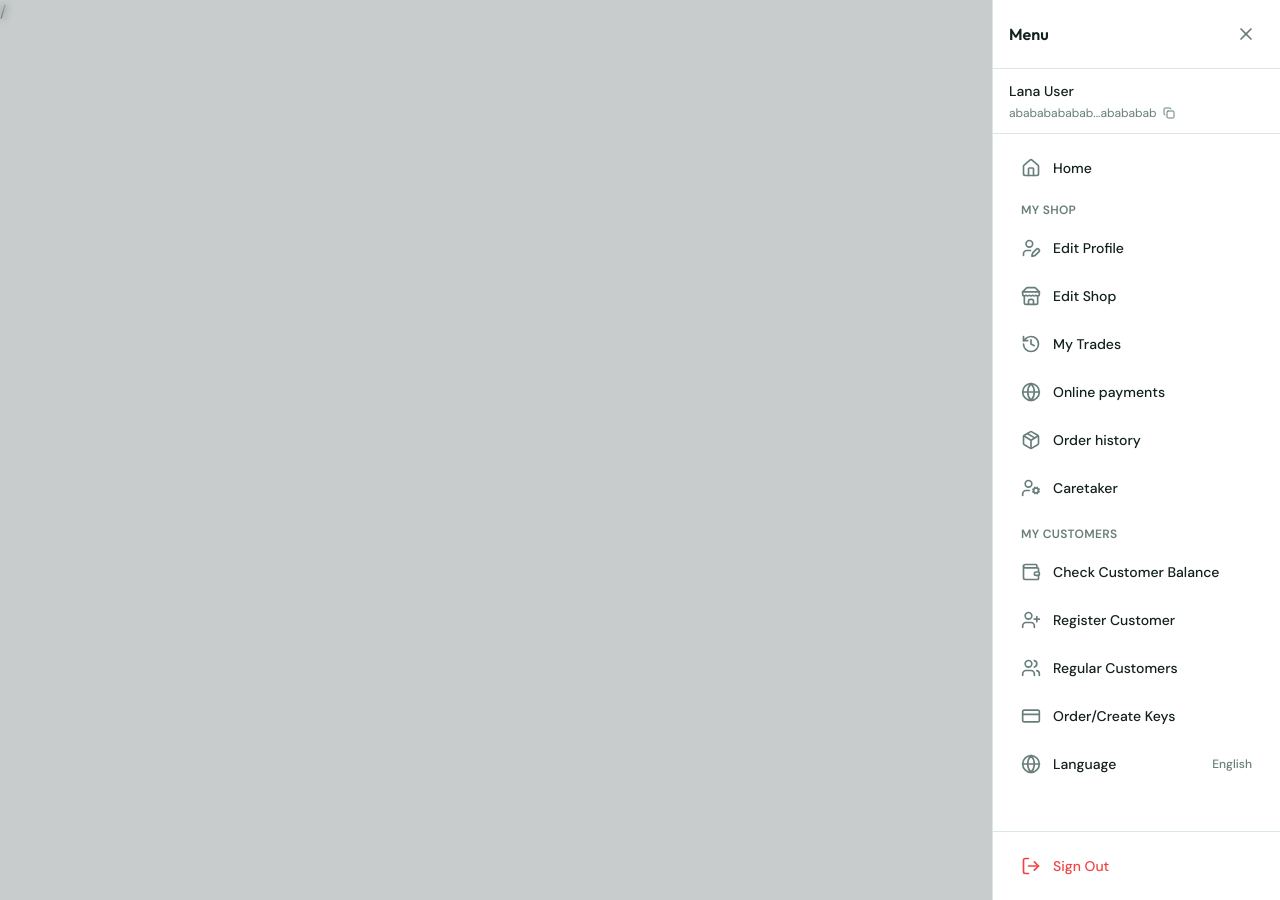
menu → Online payments › opens /lana-online/payments and closes the drawer
The image size is (1280, 900).
Click the button "Online payments". click: (1136,392)
box: 1005,370 -> 1268,414
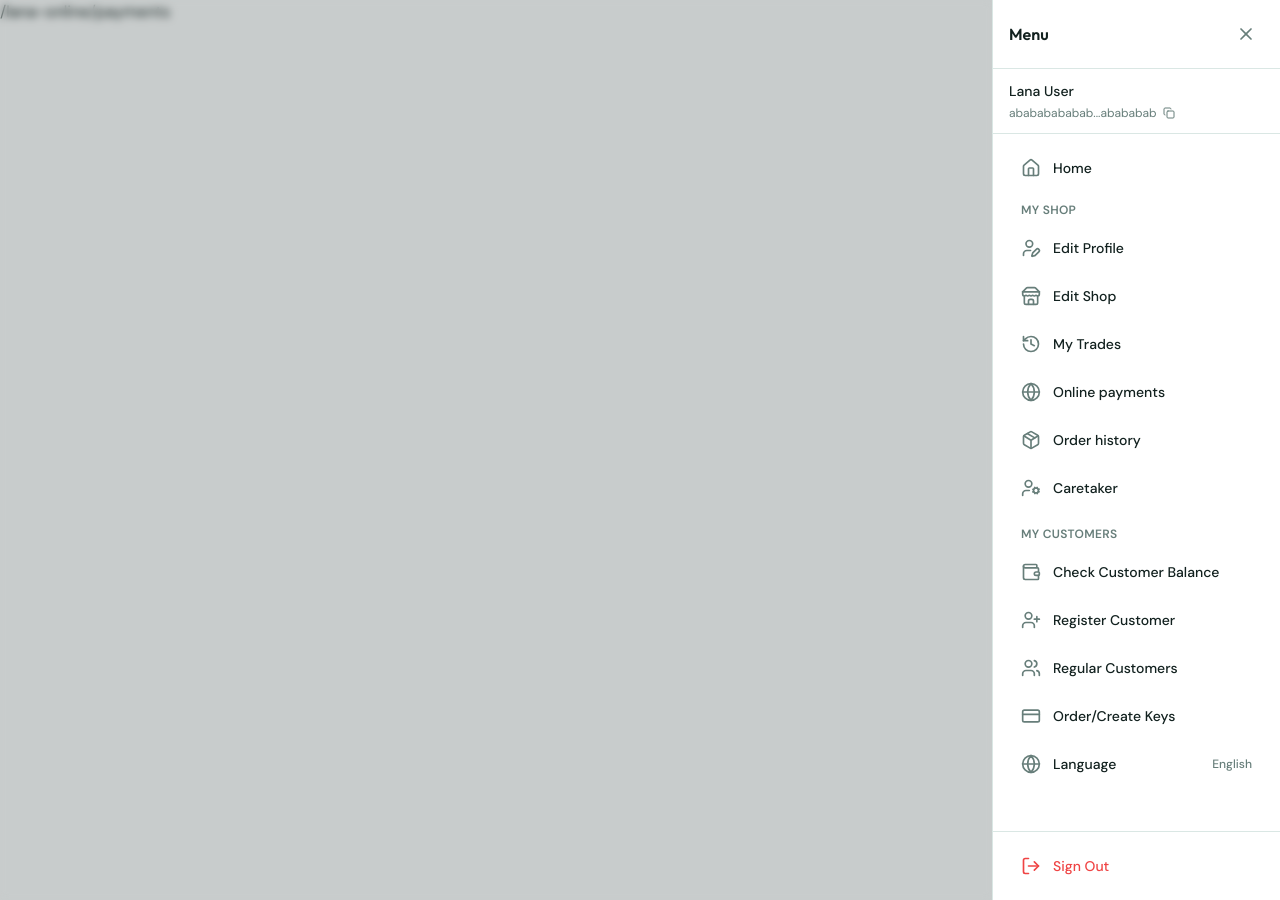
Check: the text with test id "where" reads "/lana-online/payments", box 0,1 -> 170,22
